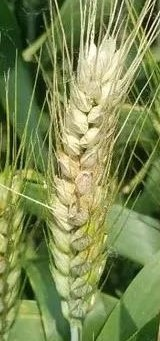Wheat scab: (42, 21, 141, 320)
